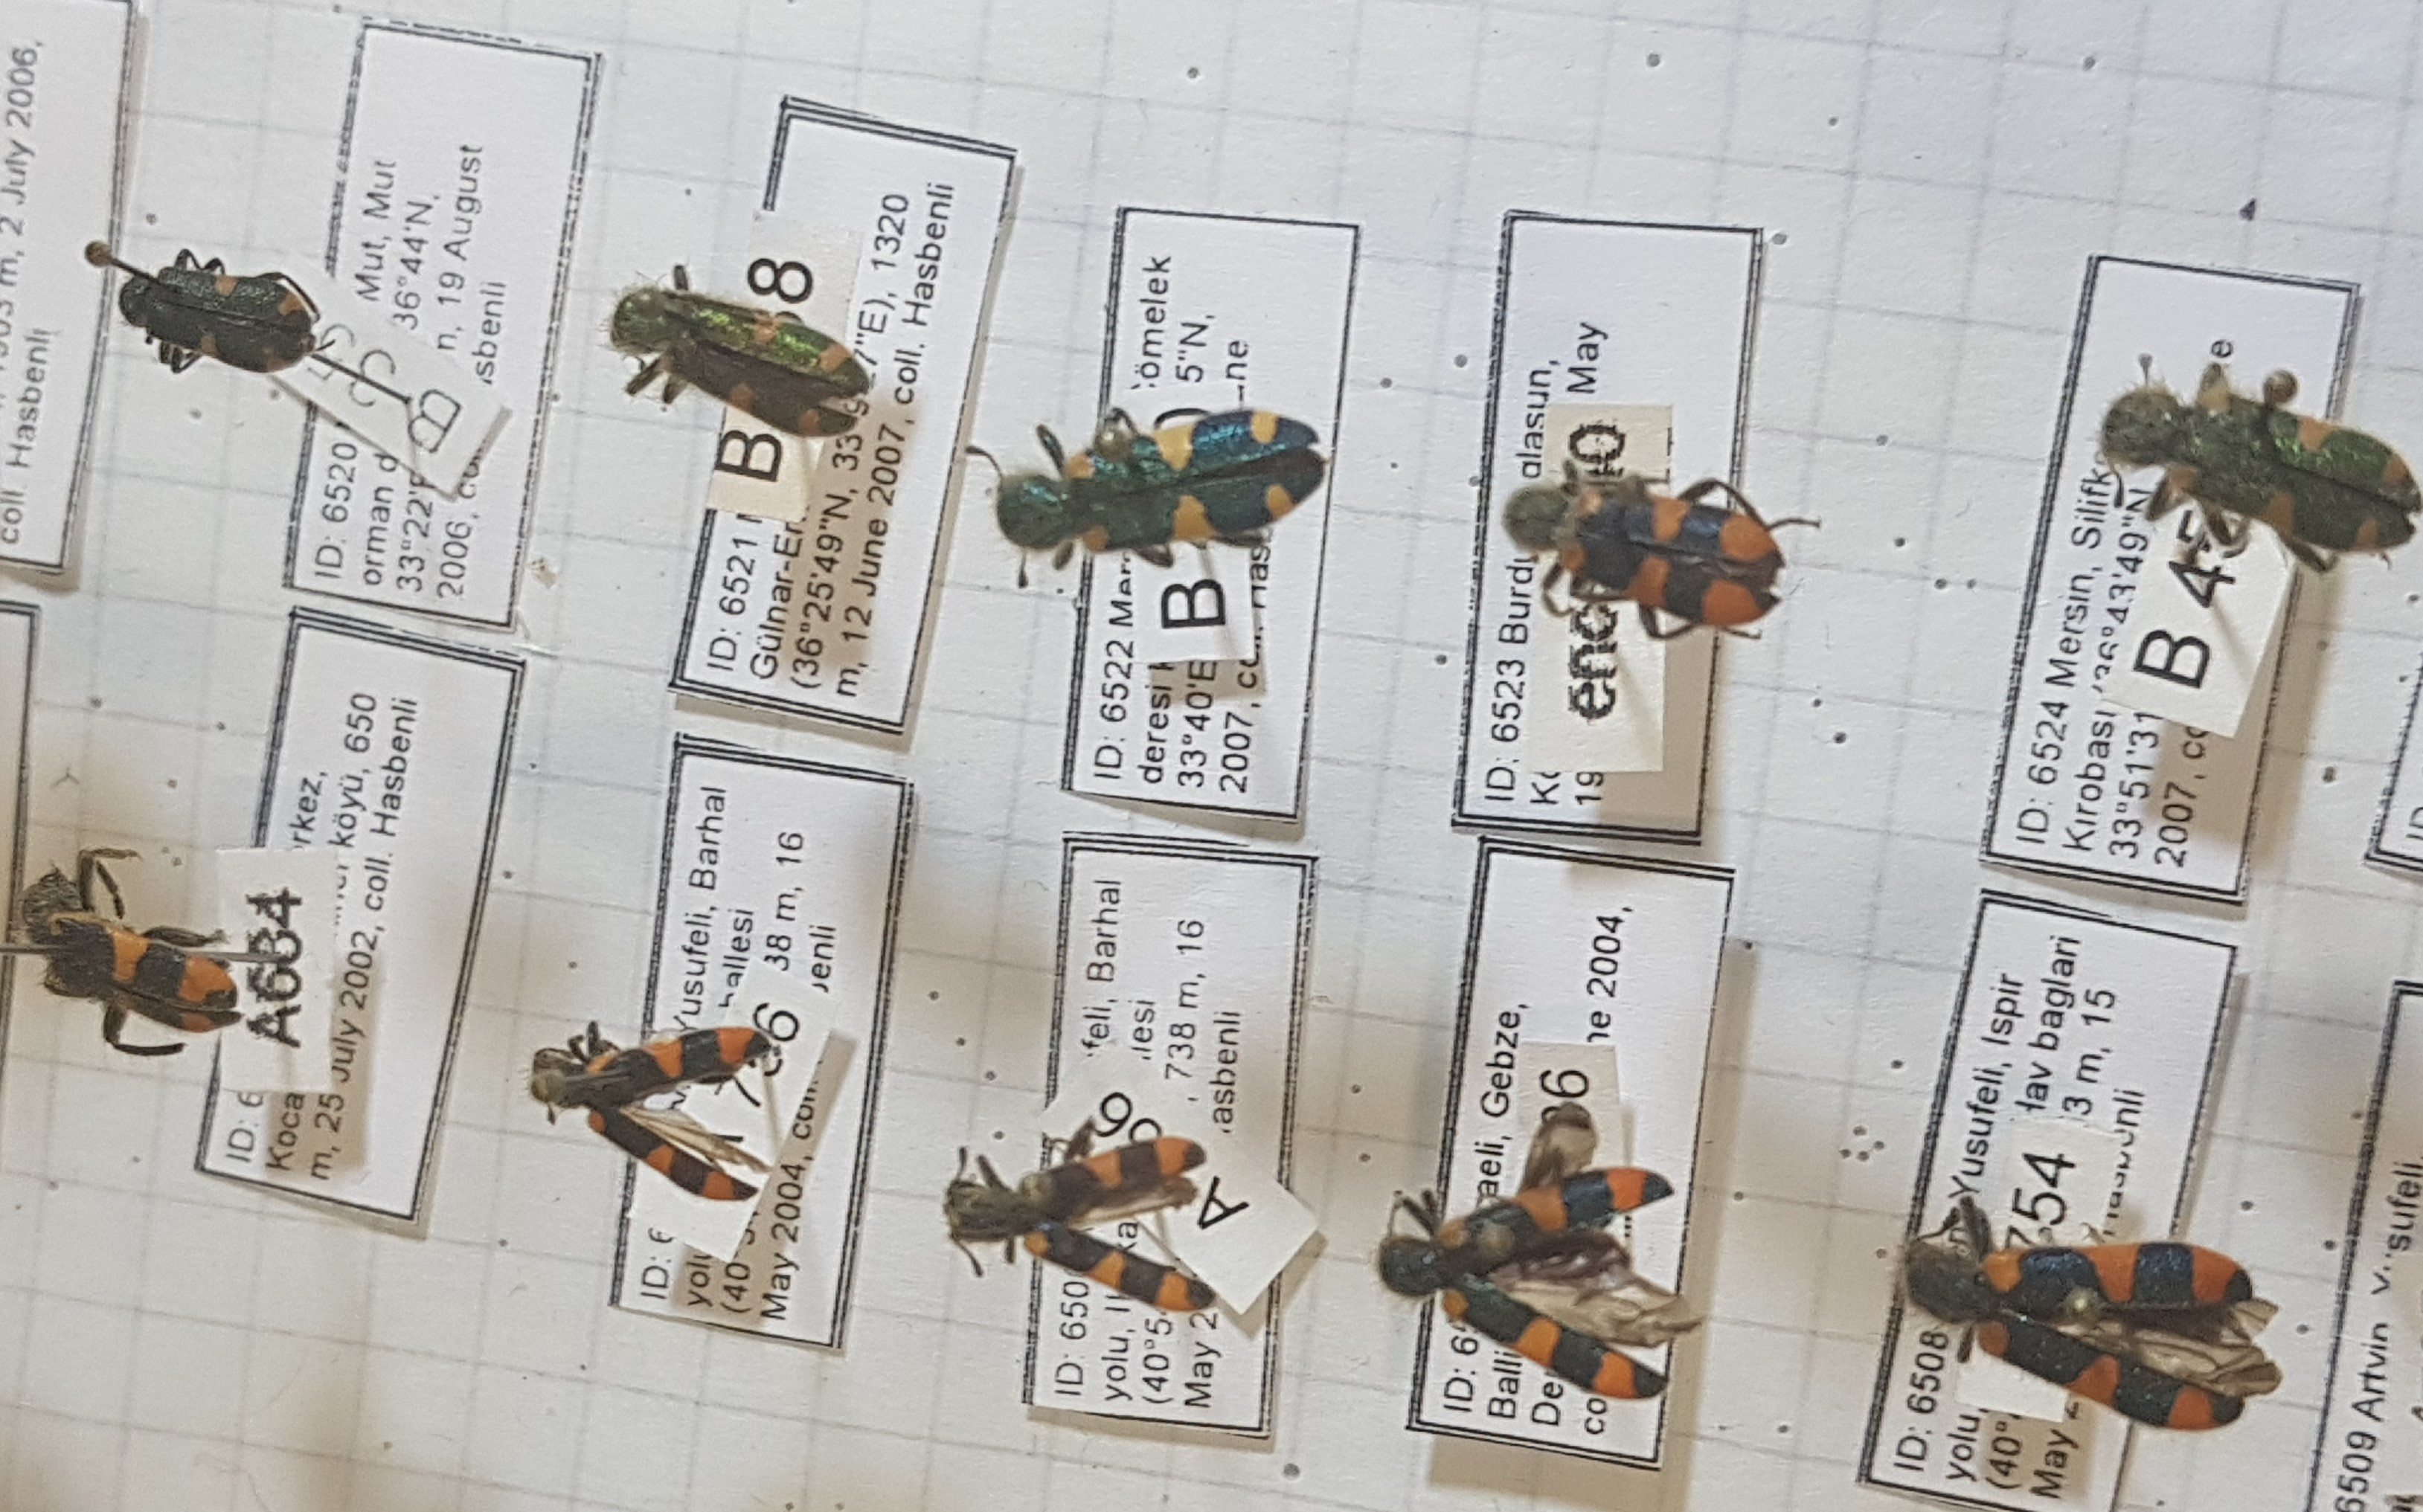trichodes_holtzi: (1897, 1188, 2296, 1451), (1374, 1137, 1740, 1420), (958, 381, 1326, 608), (928, 1129, 1265, 1348), (1508, 434, 1829, 662), (587, 256, 918, 474), (528, 1016, 782, 1205)
